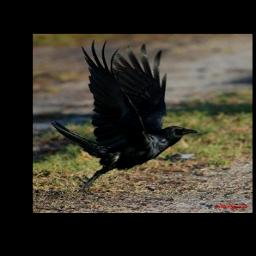Crow: (51, 37, 200, 195)
